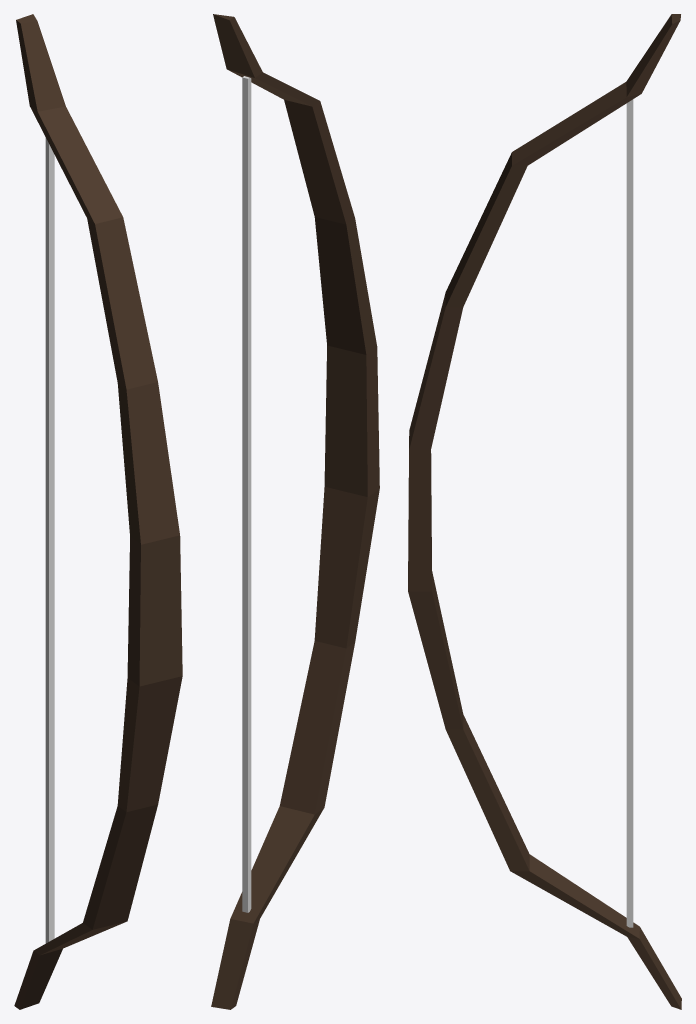
Rendered from Bandit_3_Weapon.fbx.
3 renders of one model, left to right at view 1: azimuth 30°, elevation 25°; view 2: azimuth 150°, elevation 25°; view 3: azimuth 270°, elevation 25°, orthographic.
Visible parts, largest first — view 1: Cube; view 2: Cube; view 3: Cube.
Boxes of the visible parts, x1,y1,x2,y2 form: Cube: [14, 14, 182, 1009]; Cube: [211, 14, 379, 1009]; Cube: [408, 14, 681, 1009].
Bounding box in the file's own units: 9.16 × 201 × 50.38.
